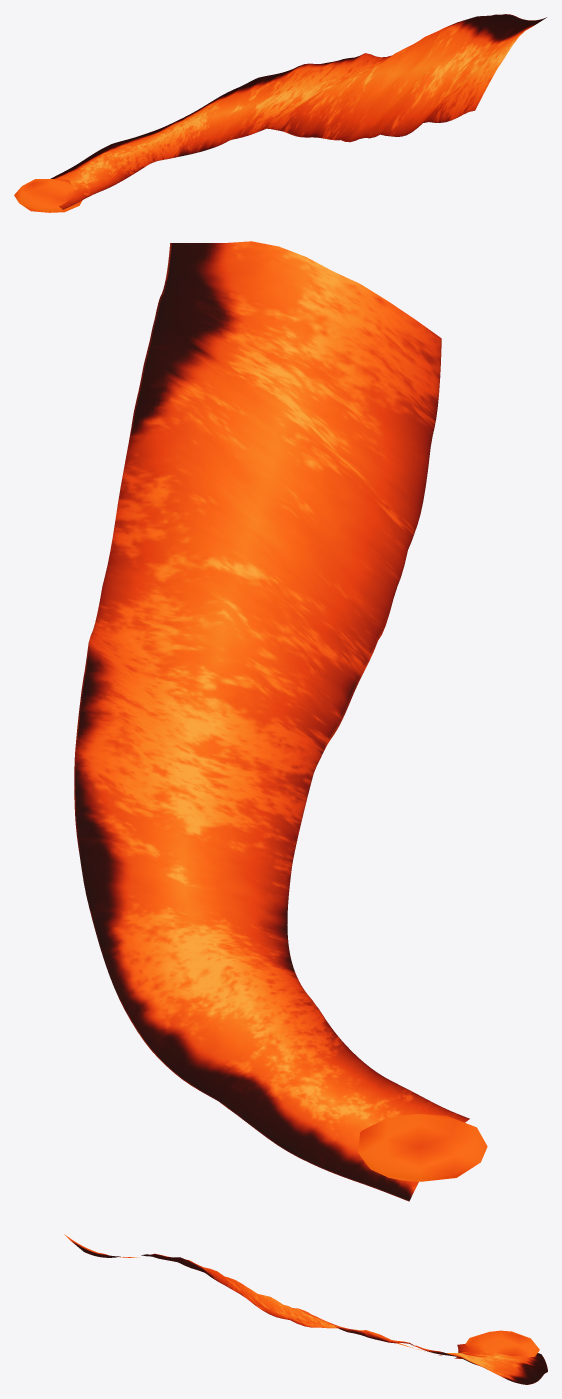
File: flow_0_4.glb
3 renders of one model, top to bottom at view 1: azimuth 30°, elevation 25°; view 2: azimuth 150°, elevation 25°; view 3: azimuth 270°, elevation 25°, orthographic. The views are drawn at different scales.
Size of the model in its own units: 16.23 by 11.42 by 19.68.
